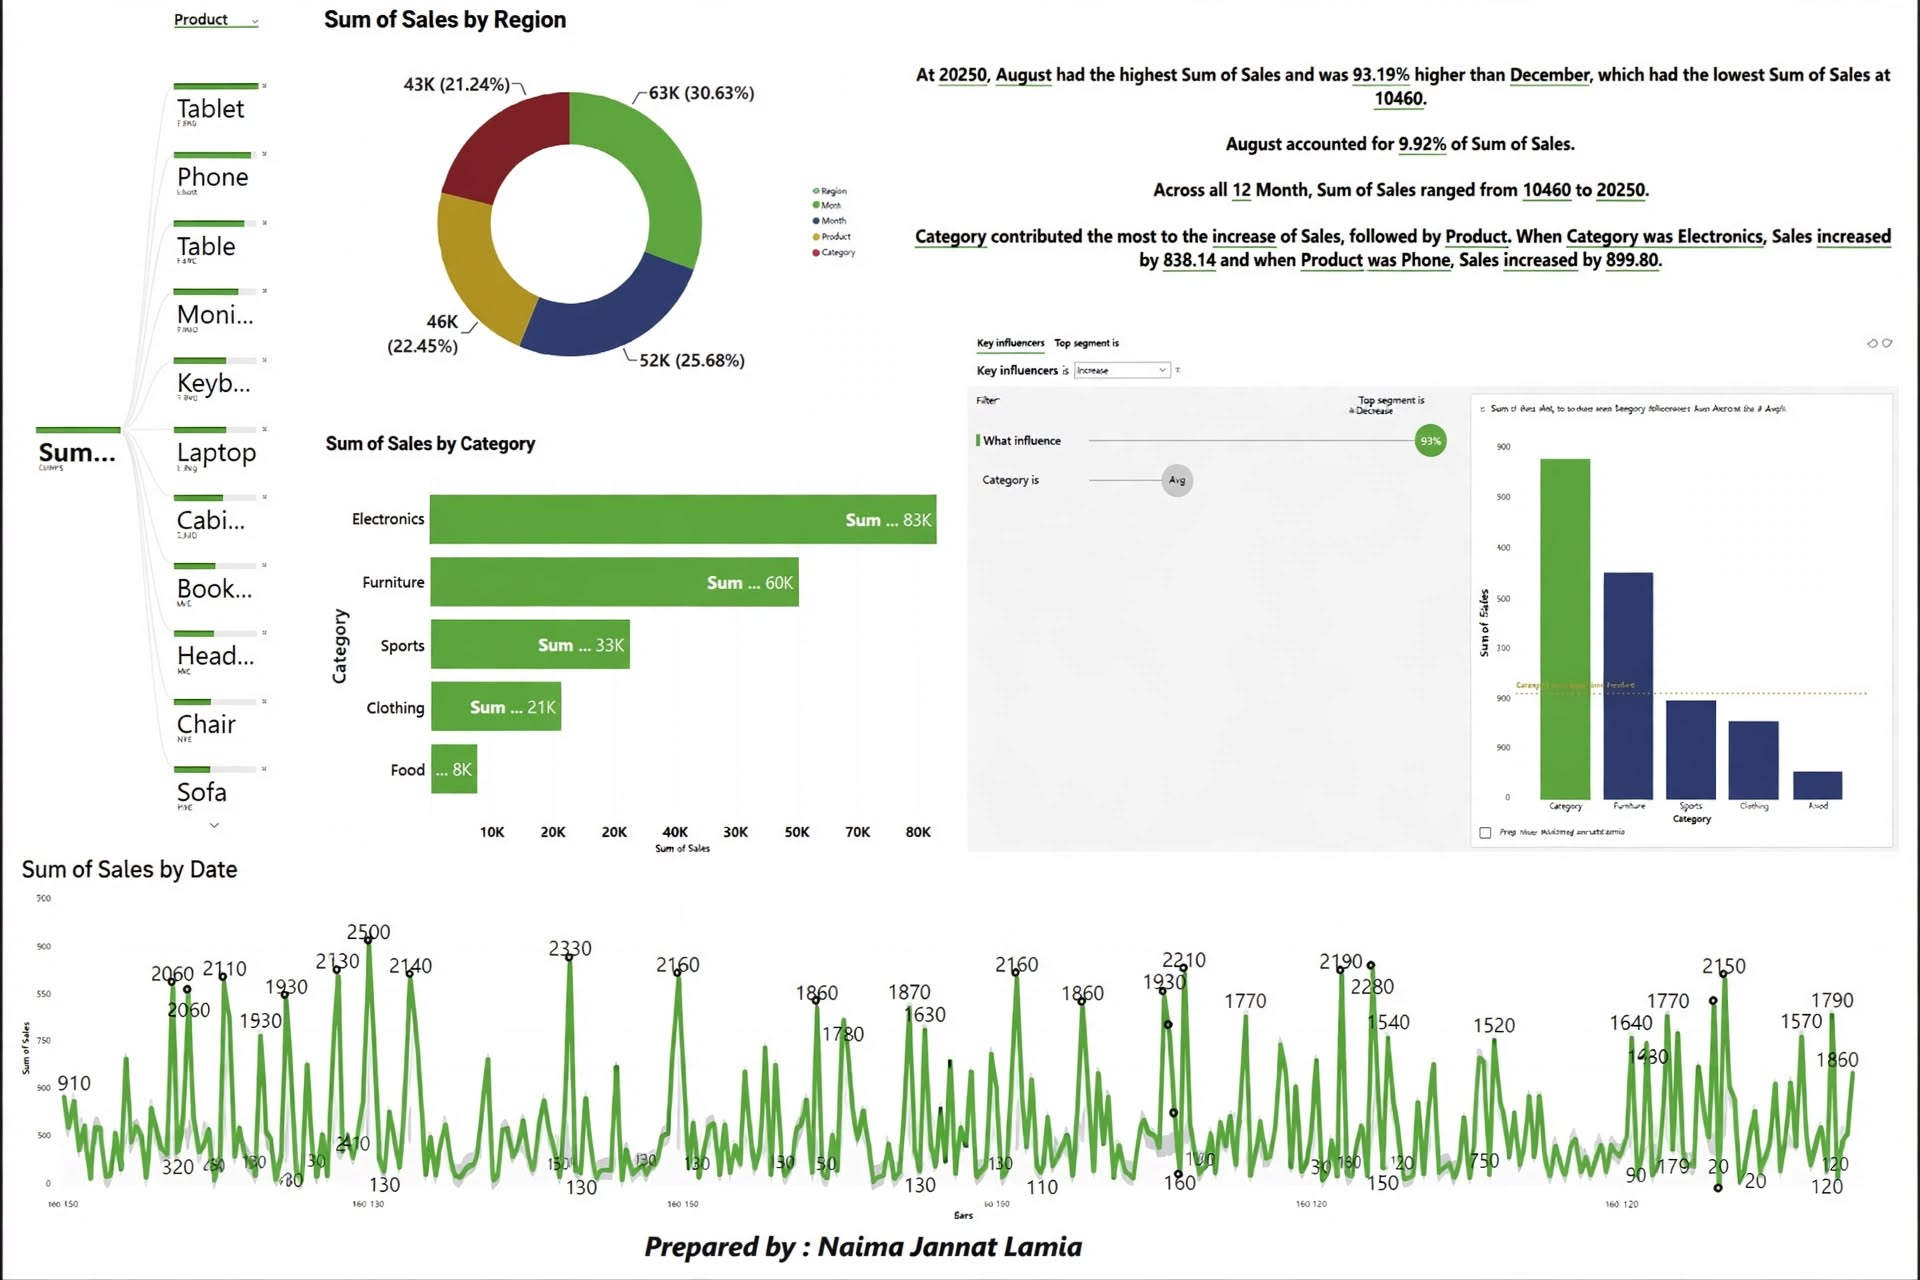

The dashboard page shown, as its layout file describes it:
{"tool":"powerbi","page":{"name":"AI Dashboard","canvas":[3000,2000],"ordinal":0},"visuals":[{"type":"keyDriversVisual","fields":{"Target":["SalesData.Sales"],"ExplainBy":["SalesData.Category","SalesData.Product","SalesData.Region","SalesData.Customer Segment"]},"box":[1497.8,508.3,1500,835],"z":0},{"type":"clusteredBarChart","fields":{"Category":["SalesData.Category"],"Y":["Sum(SalesData.Sales)"]},"box":[481.3,674.7,994,670.2],"z":1000},{"type":"lineChart","fields":{"Y":["Sum(SalesData.Sales)"],"Category":["SalesData.Date"]},"box":[0,1344.8,2950.6,589.2],"z":2000},{"type":"donutChart","fields":{"Category":["SalesData.Region"],"Y":["Sum(SalesData.Sales)"]},"box":[481.3,0,841.1,638.7],"z":3000},{"type":"textbox","box":[1398.8,85.5,1601.2,422.8],"z":4000},{"type":"decompositionTreeVisual","fields":{"Analyze":["Sum(SalesData.Sales)"],"ExplainBy":["SalesData.Product","SalesData.Category","SalesData.Region"]},"box":[0,0,481.3,1344.9],"z":5000},{"type":"textbox","box":[427.3,1934.1,1821.6,67.5],"z":6000}]}

Visuals, with their boxes in screenshot pixels (x1, y1, x2, y2), scaled from the page's 3000x2000 canvas onto the 1920x1280 screenshot:
keyDriversVisual - SalesData.Sales x SalesData.Category: select_region(959, 325, 1919, 860)
clusteredBarChart - SalesData.Category x Sum(SalesData.Sales): select_region(308, 432, 944, 861)
lineChart - Sum(SalesData.Sales) x SalesData.Date: select_region(0, 861, 1888, 1238)
donutChart - SalesData.Region x Sum(SalesData.Sales): select_region(308, 0, 846, 409)
textbox: select_region(895, 55, 1919, 325)
decompositionTreeVisual - Sum(SalesData.Sales) x SalesData.Product: select_region(0, 0, 308, 861)
textbox: select_region(273, 1238, 1439, 1279)
